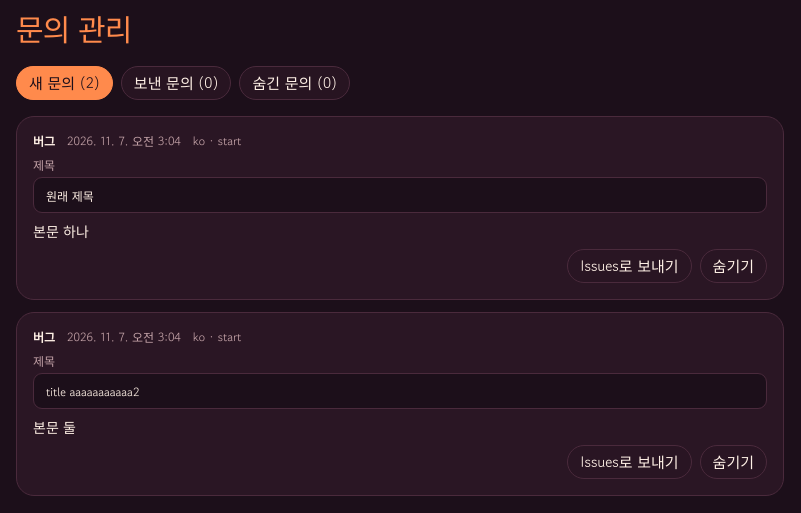
Test: send › posts the edited title with the headers; the item moves to 보낸 문의 with #N
The width and height of the screenshot is (801, 513).
Expected: the text "본문 하나" is shown, 33,221 -> 89,241
Replace the text in the 1st field labelled "제목" with "고친 제목" at (400,195), box 33,177 -> 767,213
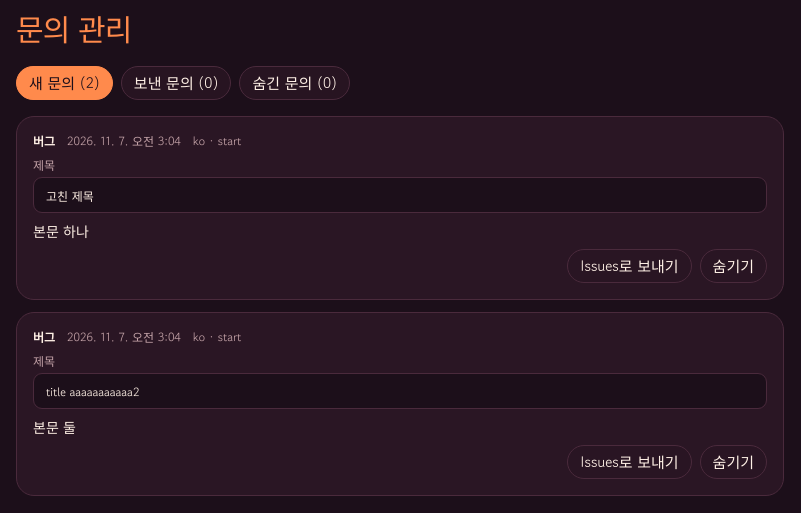
Click the 1st button "Issues로 보내기" at (629,266), box 567,249 -> 692,283
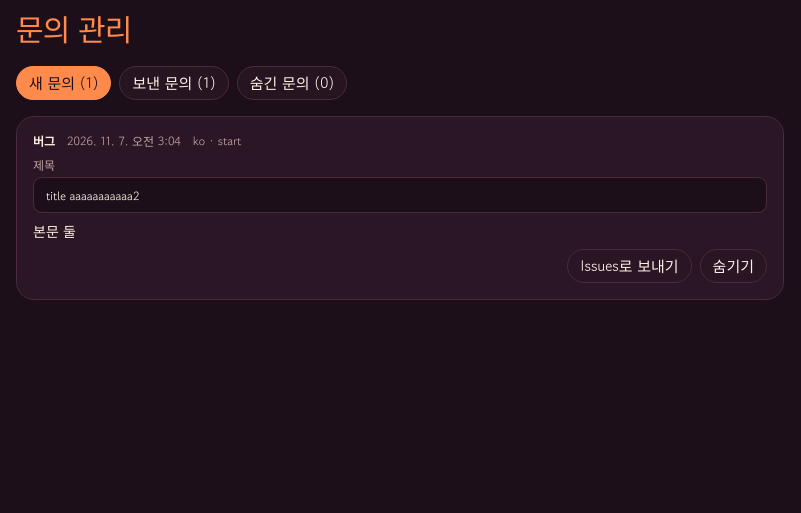
Expected: the text "본문 하나" is gone
Click the tab "보낸 문의 (1)" at (174,83), box 120,66 -> 229,100
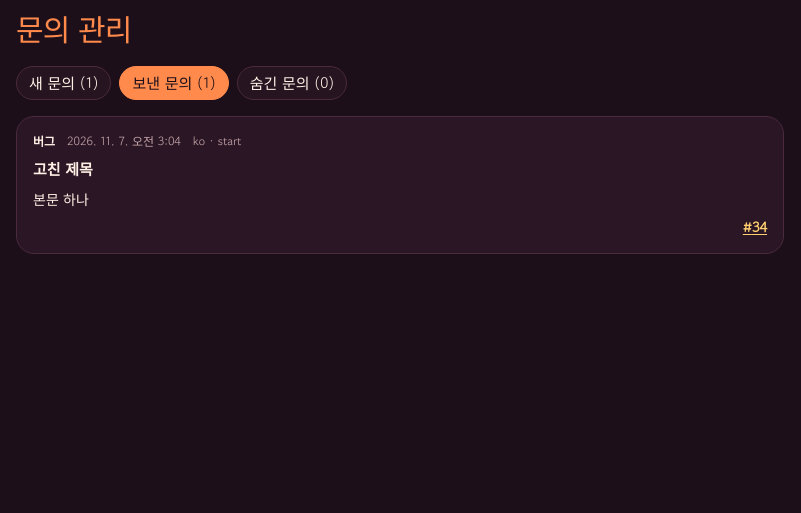
Expected: the text "본문 하나" is shown, 33,189 -> 89,209
